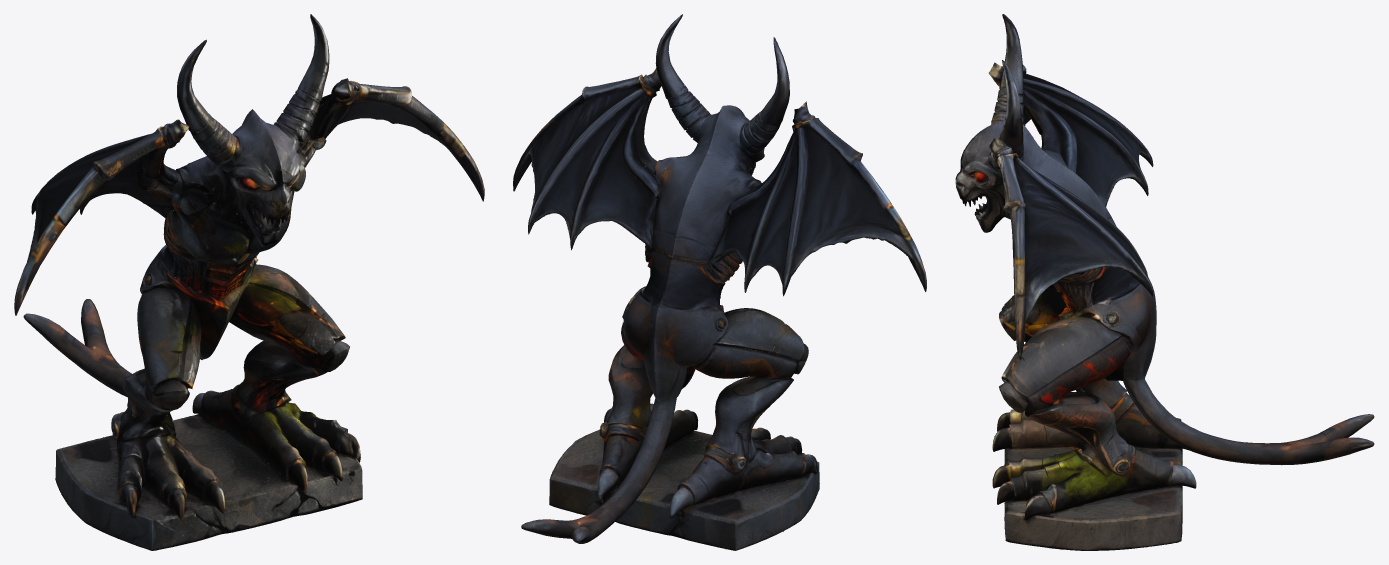
The model's file is decor_gargoyle.gltf.
The picture shows the model from 3 angles, left to right: view 1: azimuth 30°, elevation 25°; view 2: azimuth 150°, elevation 25°; view 3: azimuth 270°, elevation 25°; orthographic projection. The views are drawn at different scales.
Parts seen in each view (by area): view 1: model; view 2: model; view 3: model.
Boxes of the visible parts, x1,y1,x2,y2 form: model: (14, 14, 484, 550); model: (513, 14, 926, 550); model: (955, 14, 1374, 550).
Bounding box in the file's own units: 1.67 × 1.71 × 1.41.
Materials: 1 (1 with a texture image).
